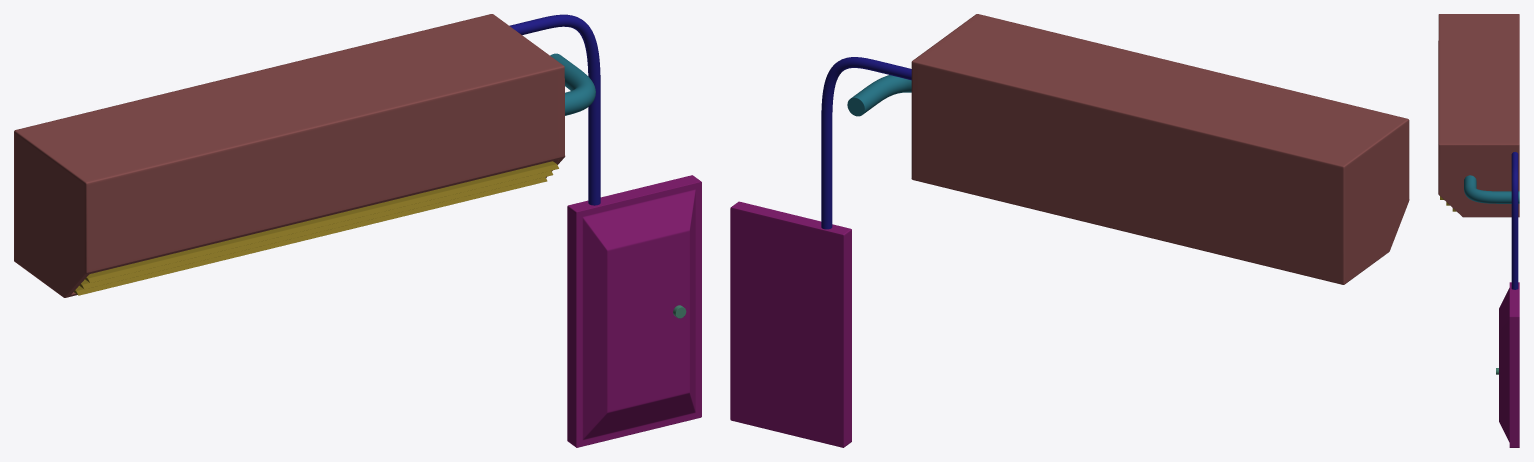
The model's file is Aicronditioning2.fbx.
3 views of the same model, side by side, from view 1: azimuth 30°, elevation 25°; view 2: azimuth 150°, elevation 25°; view 3: azimuth 270°, elevation 25° (orthographic). The views are drawn at different scales.
Parts seen in each view (by area): view 1: ACUnit_High, CircuitBreaker_High, ACFin1_High, ACElectrical2_High, ACFin2_High, ACFIn3_High, ACElectrical_High; view 2: ACUnit_High, CircuitBreaker_High, ACElectrical2_High, ACElectrical_High; view 3: ACUnit_High, CircuitBreaker_High, ACElectrical2_High, ACElectrical_High.
Part boxes in pixels (x1,y1,x2,y2): ACUnit_High: (14, 14, 565, 297); CircuitBreaker_High: (567, 175, 701, 447); ACFin1_High: (85, 161, 558, 282); ACElectrical2_High: (509, 14, 600, 205); ACFin2_High: (79, 171, 553, 289); ACFIn3_High: (74, 177, 547, 295); ACElectrical_High: (550, 53, 595, 115); ACUnit_High: (911, 14, 1409, 284); CircuitBreaker_High: (730, 201, 851, 447); ACElectrical2_High: (821, 57, 911, 229); ACElectrical_High: (847, 75, 911, 116); ACUnit_High: (1438, 14, 1519, 217); CircuitBreaker_High: (1499, 282, 1519, 447); ACElectrical2_High: (1511, 152, 1518, 289); ACElectrical_High: (1464, 175, 1519, 203).
Size of the model in its own units: 5.41 by 3.4 by 1.
